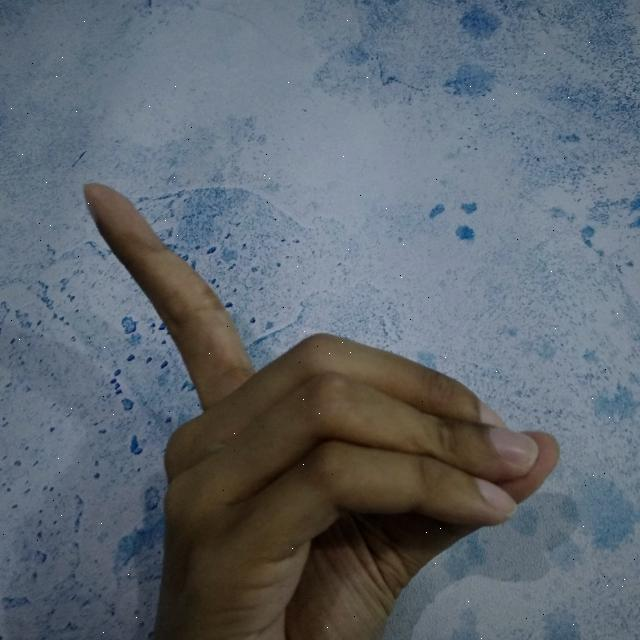D: (81, 177, 562, 640)
